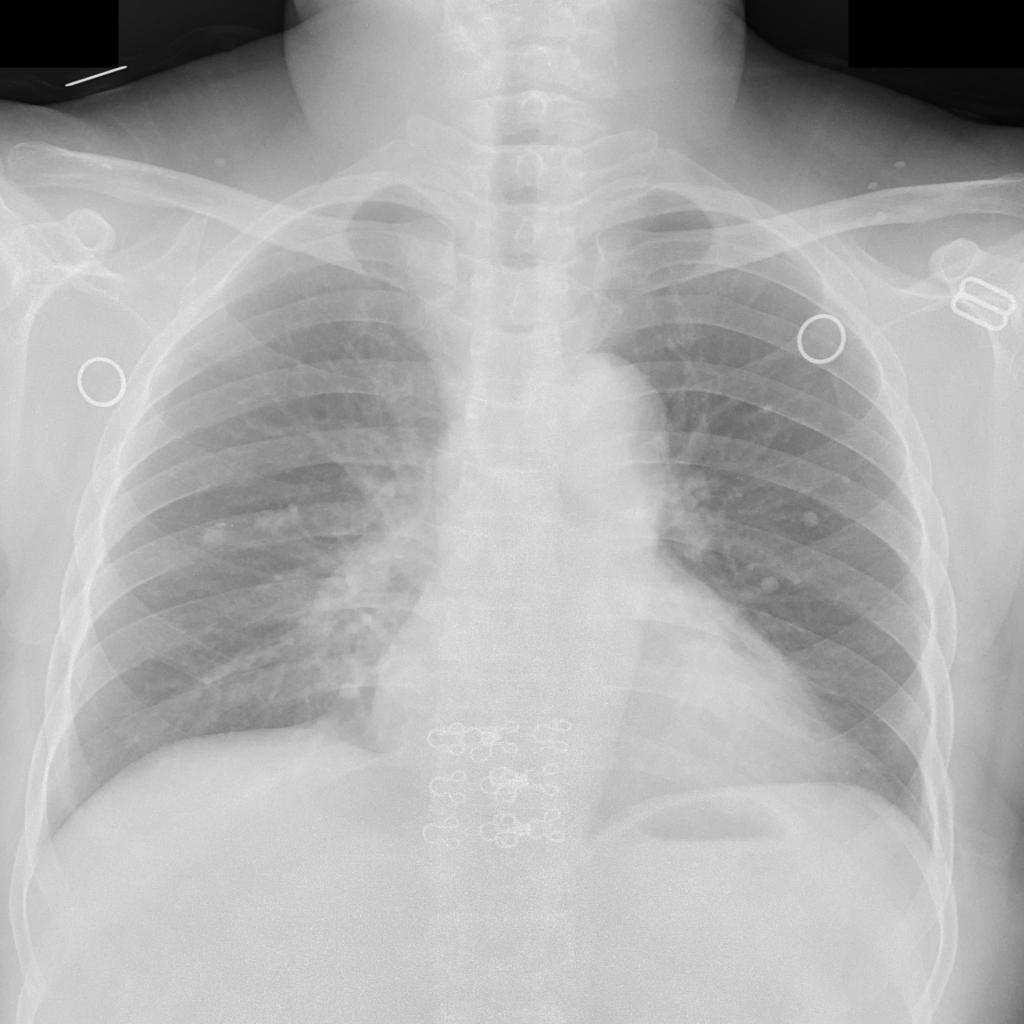Nodule: (203, 528, 229, 548), (800, 508, 821, 530)
